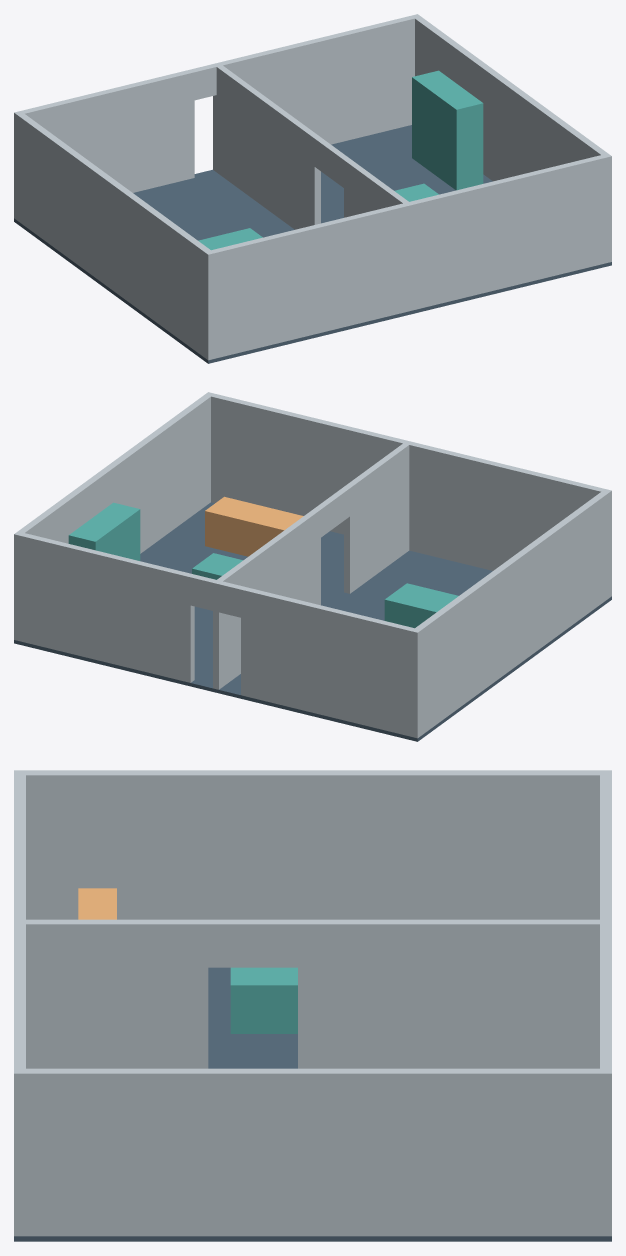
File: demo-room.gltf
The picture shows the model from 3 angles, top to bottom: view 1: azimuth 30°, elevation 25°; view 2: azimuth 150°, elevation 25°; view 3: azimuth 270°, elevation 25°; orthographic projection. The views are drawn at different scales.
Parts seen in each view (by area): view 1: wall_back, wall_left, front_right, front_left, floor, divider_a, wall_right, shelf, divider_b, front_door_header, divider_header, studio_table (+1 smaller); view 2: wall_back, wall_left, front_right, front_left, wall_right, floor, divider_a, divider_b, lounge_sofa, shelf, studio_table, front_door_header (+2 smaller); view 3: wall_right, wall_left, divider_a, divider_b, floor, wall_back, studio_table, divider_header, front_right, front_left, studio_console.
Part boxes in pixels (box(x1,y1,x2,y2)): wall_back: box(204, 153, 611, 360); wall_left: box(14, 112, 214, 359); front_right: box(241, 14, 419, 144); front_left: box(14, 69, 194, 220); floor: box(14, 125, 611, 363); divider_a: box(213, 63, 320, 229); wall_right: box(411, 14, 611, 262); shelf: box(412, 70, 483, 190); divider_b: box(344, 158, 412, 311); front_door_header: box(191, 57, 244, 100); divider_header: box(314, 137, 349, 187); studio_table: box(198, 228, 262, 250); wall_back: box(204, 392, 611, 596); wall_left: box(411, 491, 611, 738); front_right: box(14, 531, 194, 682); front_left: box(241, 587, 419, 737); wall_right: box(14, 392, 213, 641); floor: box(14, 502, 611, 741); divider_a: box(213, 508, 320, 689); divider_b: box(344, 441, 412, 593); lounge_sofa: box(205, 496, 303, 556); shelf: box(68, 502, 140, 560); studio_table: box(384, 583, 458, 628); front_door_header: box(190, 574, 244, 617); wall_right: box(14, 1068, 611, 1236); wall_left: box(14, 770, 611, 919); divider_a: box(298, 919, 611, 1068); divider_b: box(14, 919, 208, 1068); floor: box(14, 967, 611, 1241); wall_back: box(14, 770, 25, 1236); studio_table: box(230, 967, 297, 1033); divider_header: box(208, 919, 297, 967); front_right: box(600, 941, 611, 1236); front_left: box(600, 770, 611, 902); studio_console: box(78, 888, 116, 919).
Bounding box in the file's own units: 12 × 3.1 × 10.
